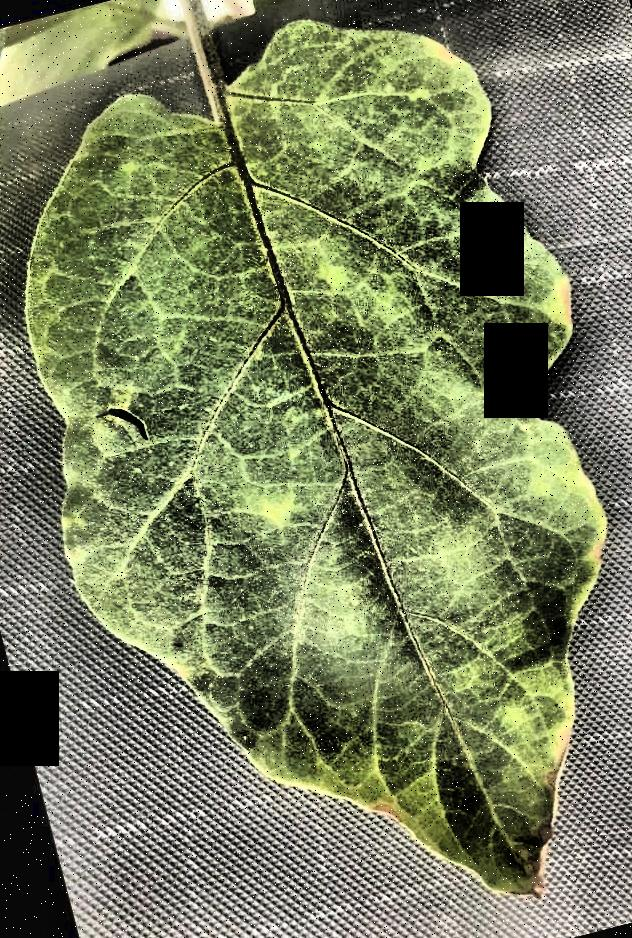Non-critical Stress: (1, 0, 632, 938)
